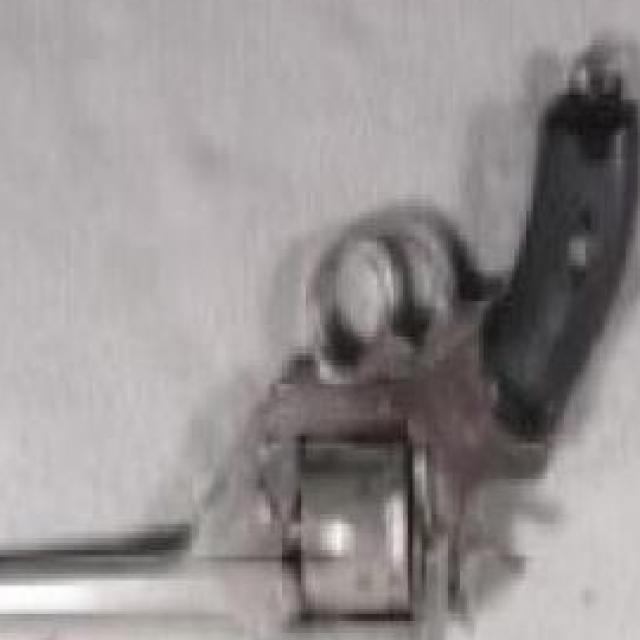pistol: (0, 92, 638, 640)
